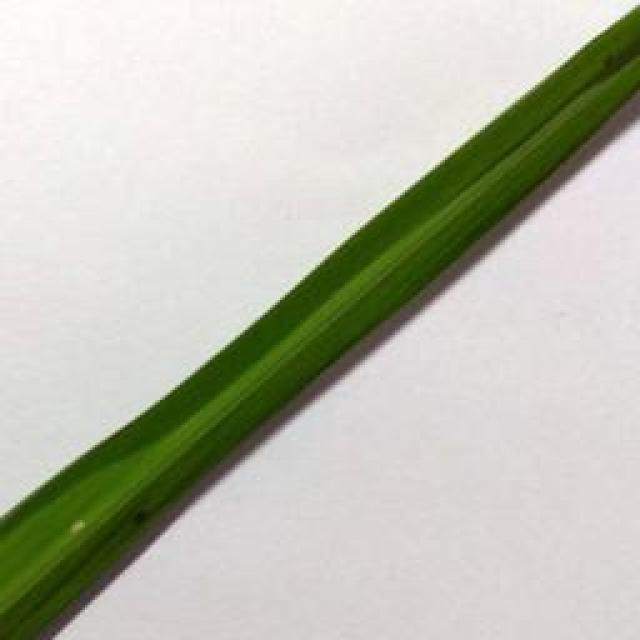Bacterial_Blight: (52, 512, 102, 547)
Brown_Spot: (592, 41, 625, 81), (121, 508, 165, 534)
